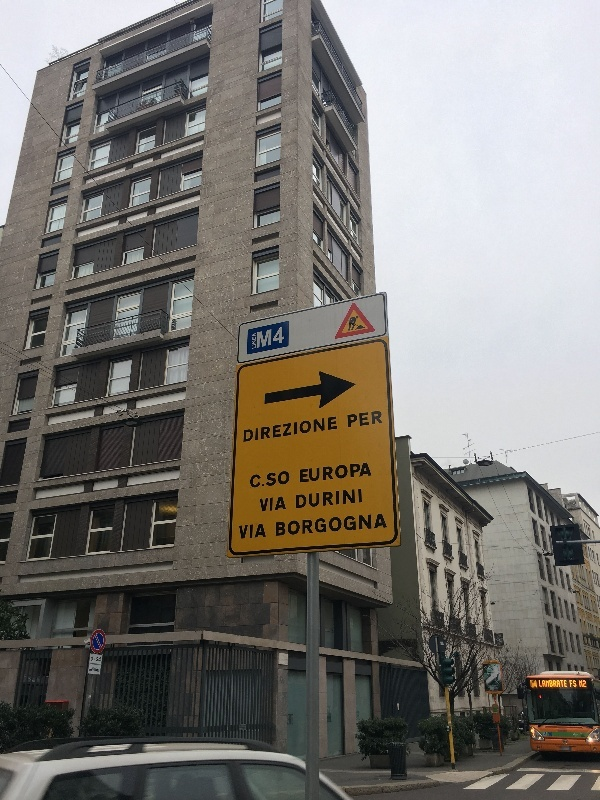text: (257, 415, 272, 444), (273, 415, 288, 444), (289, 415, 304, 444), (305, 415, 320, 444), (321, 415, 336, 444), (289, 511, 304, 538), (305, 511, 320, 538), (321, 511, 336, 538), (337, 511, 352, 538), (353, 511, 368, 538), (369, 511, 384, 538), (257, 325, 272, 350), (305, 461, 320, 485), (321, 461, 336, 485), (337, 461, 352, 485), (353, 461, 368, 485), (305, 487, 320, 511), (321, 487, 336, 511), (337, 487, 352, 511), (244, 415, 256, 444), (276, 511, 288, 538), (273, 325, 285, 350), (257, 470, 272, 490), (273, 470, 288, 490), (353, 410, 368, 430), (369, 410, 384, 430), (241, 523, 256, 540), (353, 487, 363, 511), (273, 496, 287, 513), (259, 496, 272, 513), (296, 487, 304, 511), (257, 523, 267, 540), (578, 679, 592, 689), (545, 679, 560, 688), (250, 470, 256, 490), (299, 461, 304, 485), (347, 410, 352, 430), (369, 461, 373, 485), (568, 679, 576, 690), (385, 511, 388, 538), (252, 331, 256, 351), (561, 679, 568, 688), (538, 679, 544, 688), (289, 470, 291, 490), (91, 655, 96, 663), (97, 655, 102, 663), (337, 415, 338, 444), (239, 523, 240, 540)
